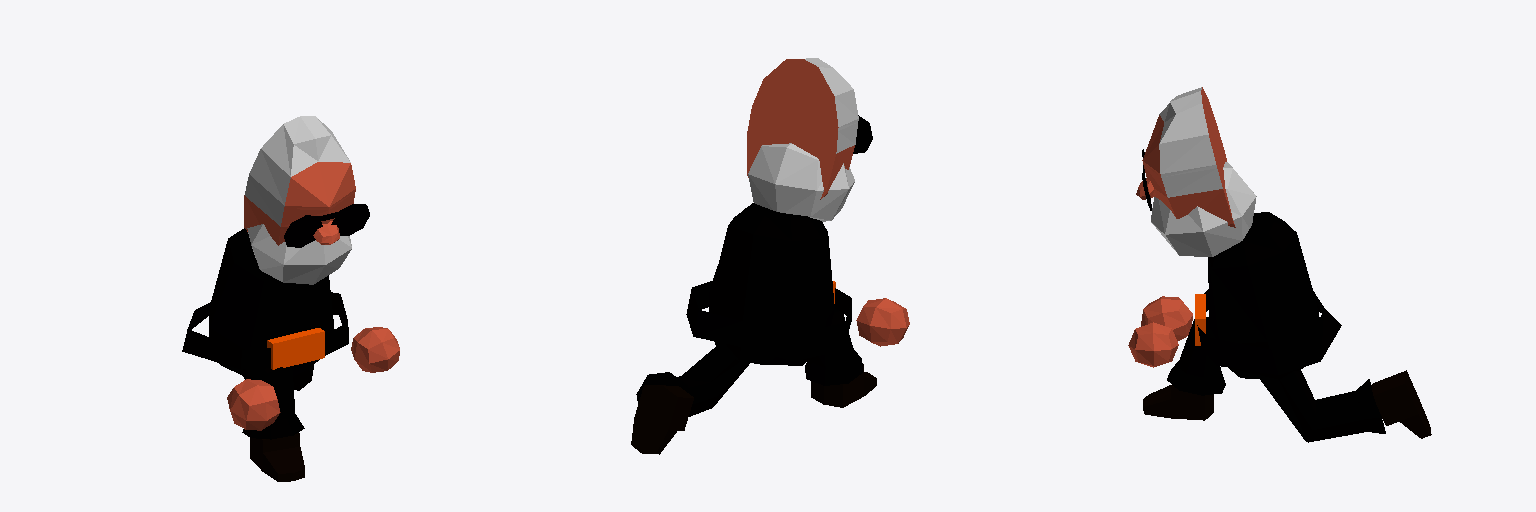
File: loot.obj
The picture shows the model from 3 angles: view 1: azimuth 30°, elevation 25°; view 2: azimuth 150°, elevation 25°; view 3: azimuth 270°, elevation 25°; orthographic projection.
Visible parts, largest first — view 1: HEAD_HEAD.010, BODY.009, BARBER.008, COLOR_ME.001_COLOR_ME.001_COLOR_ME.001_COLOR_ME.010, WIRST.001_WIRST.010, short_2_Cube.014_short_2_Cube.006, shoe_2_Cube.011_shoe_2_Cube.006, GLASS_GLASS.010, WIRST_WIRST.010, BELL.010; view 2: BODY.009, HEAD_HEAD.010, BARBER.008, COLOR_ME.001_COLOR_ME.001_COLOR_ME.001_COLOR_ME.010, shoe_2_Cube.011_shoe_2_Cube.001_shoe_2_Cube.011_shoe_2_Cube.007, short_2_Cube.014_short_2_Cube.001_short_2_Cube.014_short_2_Cube, WIRST.001_WIRST.010, short_2_Cube.014_short_2_Cube.006, shoe_2_Cube.011_shoe_2_Cube.006; view 3: BODY.009, HEAD_HEAD.010, short_2_Cube.014_short_2_Cube.001_short_2_Cube.014_short_2_Cube, BARBER.008, COLOR_ME.001_COLOR_ME.001_COLOR_ME.001_COLOR_ME.010, shoe_2_Cube.011_shoe_2_Cube.001_shoe_2_Cube.011_shoe_2_Cube.007, short_2_Cube.014_short_2_Cube.006, shoe_2_Cube.011_shoe_2_Cube.006, WIRST_WIRST.010, WIRST.001_WIRST.010.
Boxes of the visible parts, x1=… form: HEAD_HEAD.010: x1=244, y1=116, x2=355, y2=245; BODY.009: x1=209, y1=228, x2=334, y2=376; BARBER.008: x1=247, y1=224, x2=351, y2=284; COLOR_ME.001_COLOR_ME.001_COLOR_ME.001_COLOR_ME.010: x1=182, y1=292, x2=348, y2=369; WIRST.001_WIRST.010: x1=227, y1=379, x2=280, y2=430; short_2_Cube.014_short_2_Cube.006: x1=239, y1=367, x2=304, y2=439; shoe_2_Cube.011_shoe_2_Cube.006: x1=250, y1=433, x2=304, y2=481; GLASS_GLASS.010: x1=284, y1=204, x2=369, y2=247; WIRST_WIRST.010: x1=351, y1=327, x2=399, y2=372; BELL.010: x1=267, y1=328, x2=324, y2=369; BODY.009: x1=709, y1=203, x2=834, y2=365; HEAD_HEAD.010: x1=747, y1=58, x2=858, y2=199; BARBER.008: x1=748, y1=143, x2=854, y2=221; COLOR_ME.001_COLOR_ME.001_COLOR_ME.001_COLOR_ME.010: x1=686, y1=281, x2=851, y2=360; shoe_2_Cube.011_shoe_2_Cube.001_shoe_2_Cube.011_shoe_2_Cube.007: x1=631, y1=385, x2=693, y2=454; short_2_Cube.014_short_2_Cube.001_short_2_Cube.014_short_2_Cube: x1=636, y1=347, x2=749, y2=416; WIRST.001_WIRST.010: x1=856, y1=298, x2=909, y2=346; short_2_Cube.014_short_2_Cube.006: x1=805, y1=309, x2=862, y2=385; shoe_2_Cube.011_shoe_2_Cube.006: x1=811, y1=364, x2=876, y2=407; BODY.009: x1=1208, y1=212, x2=1319, y2=379; HEAD_HEAD.010: x1=1142, y1=87, x2=1235, y2=227; short_2_Cube.014_short_2_Cube.001_short_2_Cube.014_short_2_Cube: x1=1260, y1=370, x2=1385, y2=442; BARBER.008: x1=1151, y1=162, x2=1256, y2=256; COLOR_ME.001_COLOR_ME.001_COLOR_ME.001_COLOR_ME.010: x1=1197, y1=289, x2=1341, y2=374; shoe_2_Cube.011_shoe_2_Cube.001_shoe_2_Cube.011_shoe_2_Cube.007: x1=1371, y1=370, x2=1431, y2=438; short_2_Cube.014_short_2_Cube.006: x1=1167, y1=317, x2=1225, y2=395; shoe_2_Cube.011_shoe_2_Cube.006: x1=1143, y1=385, x2=1213, y2=420; WIRST_WIRST.010: x1=1128, y1=322, x2=1178, y2=367; WIRST.001_WIRST.010: x1=1141, y1=296, x2=1192, y2=340.
Size of the model in its own units: 0.5974 by 1.16 by 0.953.